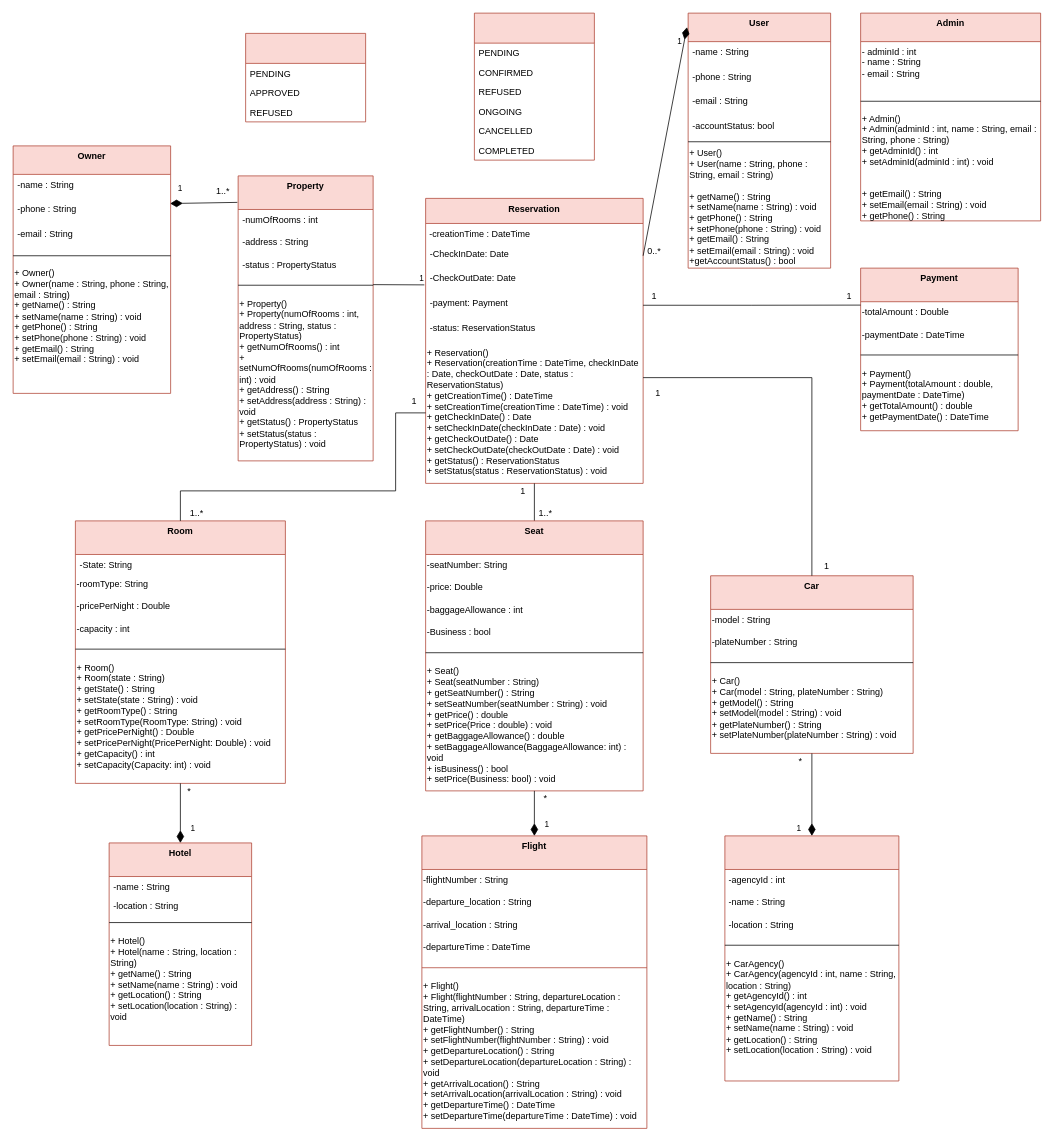
Image size: 1054x1142. Some labels were removed from this diagram. Each missing label, with the box of its shape:
<enumeration> PropertyStatus: (245, 33, 366, 122)
<enumeration> ReservationStatus: (474, 12, 594, 160)
Car Agnecy: (724, 835, 899, 1081)
